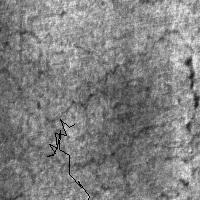crazing: (44, 26, 183, 191), (47, 119, 89, 200)
